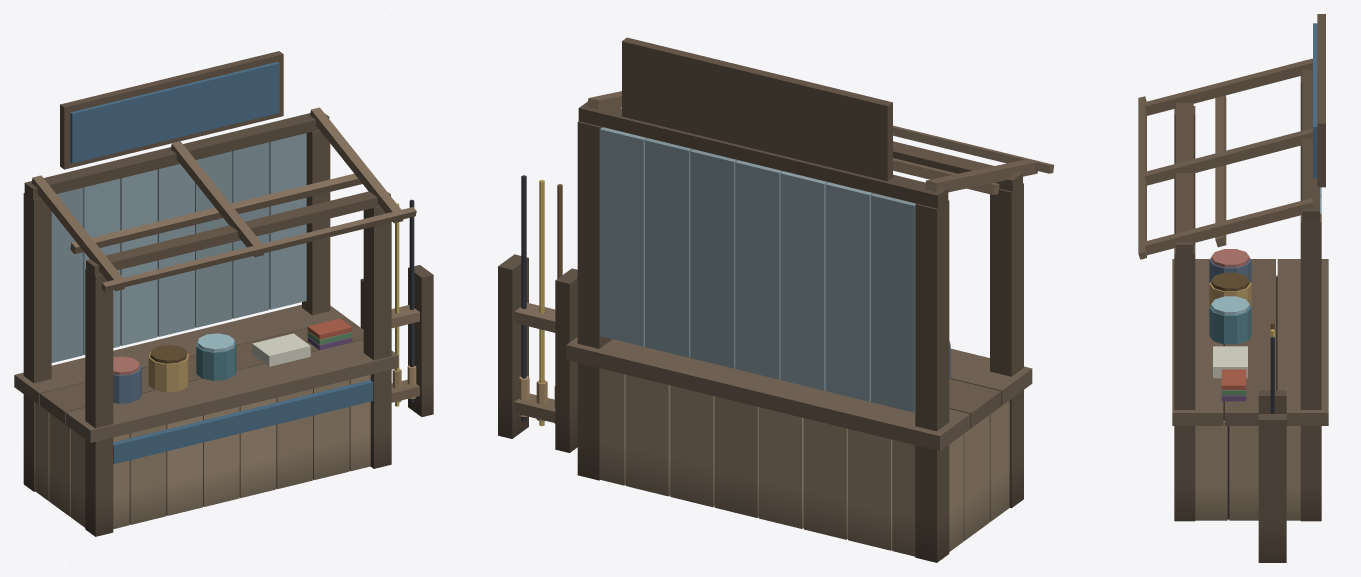
File: BaitShopStand_wood.glb
3 renders of one model, left to right at view 1: azimuth 30°, elevation 25°; view 2: azimuth 150°, elevation 25°; view 3: azimuth 270°, elevation 25°, orthographic. The views are drawn at different scales.
Visible parts, largest first — view 1: BaitShopStand_wood; view 2: BaitShopStand_wood; view 3: BaitShopStand_wood.
Boxes of the visible parts, x1,y1,x2,y2 form: BaitShopStand_wood: (14, 14, 433, 536); BaitShopStand_wood: (498, 37, 1054, 562); BaitShopStand_wood: (1138, 14, 1328, 562).
Size of the model in its own units: 14.32 by 11.9 by 6.11.
